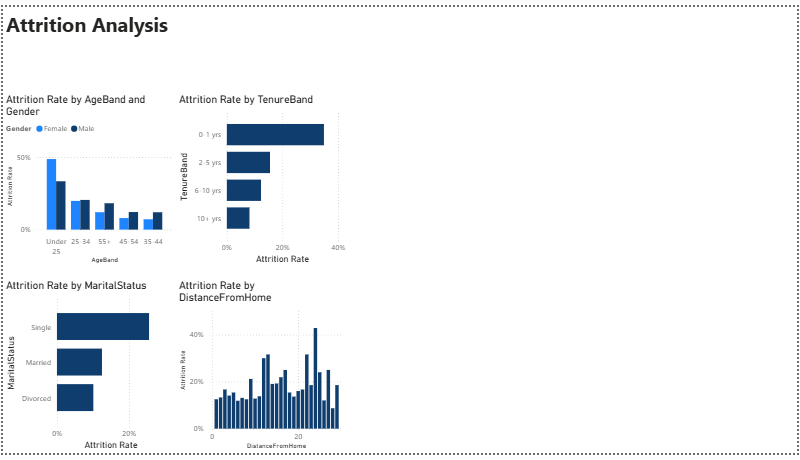

The page's visual inventory and layout, read from the dashboard file:
{"tool":"powerbi","page":{"name":"Attrition Analysis","canvas":[1280,720],"ordinal":1},"visuals":[{"type":"clusteredColumnChart","fields":{"Category":["WA_Fn-UseC_-HR-Employee-Attrition.AgeBand"],"Y":["WA_Fn-UseC_-HR-Employee-Attrition.Attrition Rate"],"Series":["WA_Fn-UseC_-HR-Employee-Attrition.Gender"]},"box":[0,139.3,278.6,280.4],"z":0},{"type":"clusteredBarChart","fields":{"Category":["WA_Fn-UseC_-HR-Employee-Attrition.MaritalStatus"],"Y":["WA_Fn-UseC_-HR-Employee-Attrition.Attrition Rate"]},"box":[0,439.3,278.6,280.4],"z":1000},{"type":"clusteredBarChart","fields":{"Category":["WA_Fn-UseC_-HR-Employee-Attrition.TenureBand"],"Y":["WA_Fn-UseC_-HR-Employee-Attrition.Attrition Rate"]},"box":[278.6,139.3,278.6,280.4],"z":2000},{"type":"clusteredColumnChart","fields":{"Category":["WA_Fn-UseC_-HR-Employee-Attrition.DistanceFromHome"],"Y":["WA_Fn-UseC_-HR-Employee-Attrition.Attrition Rate"]},"box":[278.6,439.3,278.6,280.4],"z":3000},{"type":"textbox","box":[0,0,848.2,101.8],"z":4000}]}

Visuals, with their boxes in screenshot pixels (x1, y1, x2, y2), scaled from the page's 1280x720 canvas onto the 800x460 screenshot:
clusteredColumnChart - WA_Fn-UseC_-HR-Employee-Attrition.AgeBand x WA_Fn-UseC_-HR-Employee-Attrition.Attrition Rate: bbox=[0, 89, 174, 268]
clusteredBarChart - WA_Fn-UseC_-HR-Employee-Attrition.MaritalStatus x WA_Fn-UseC_-HR-Employee-Attrition.Attrition Rate: bbox=[0, 281, 174, 459]
clusteredBarChart - WA_Fn-UseC_-HR-Employee-Attrition.TenureBand x WA_Fn-UseC_-HR-Employee-Attrition.Attrition Rate: bbox=[174, 89, 348, 268]
clusteredColumnChart - WA_Fn-UseC_-HR-Employee-Attrition.DistanceFromHome x WA_Fn-UseC_-HR-Employee-Attrition.Attrition Rate: bbox=[174, 281, 348, 459]
textbox: bbox=[0, 0, 530, 65]
